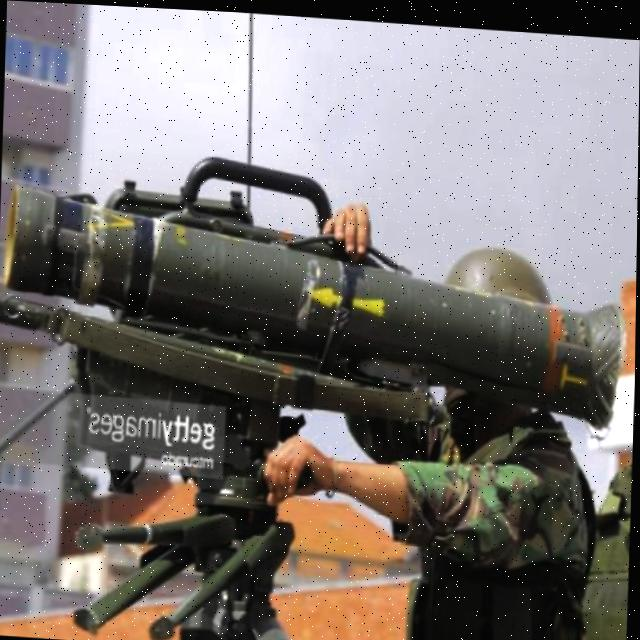rocket: (0, 180, 629, 425)
